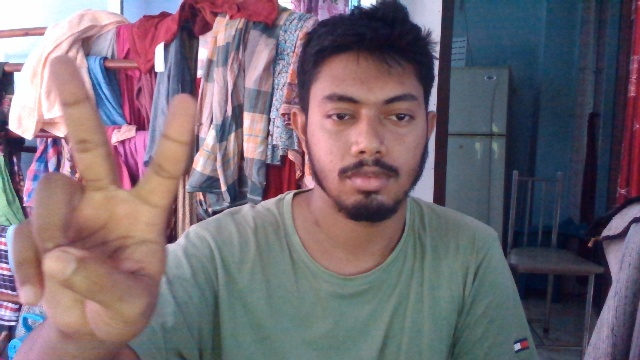thanks: (8, 56, 198, 344)
